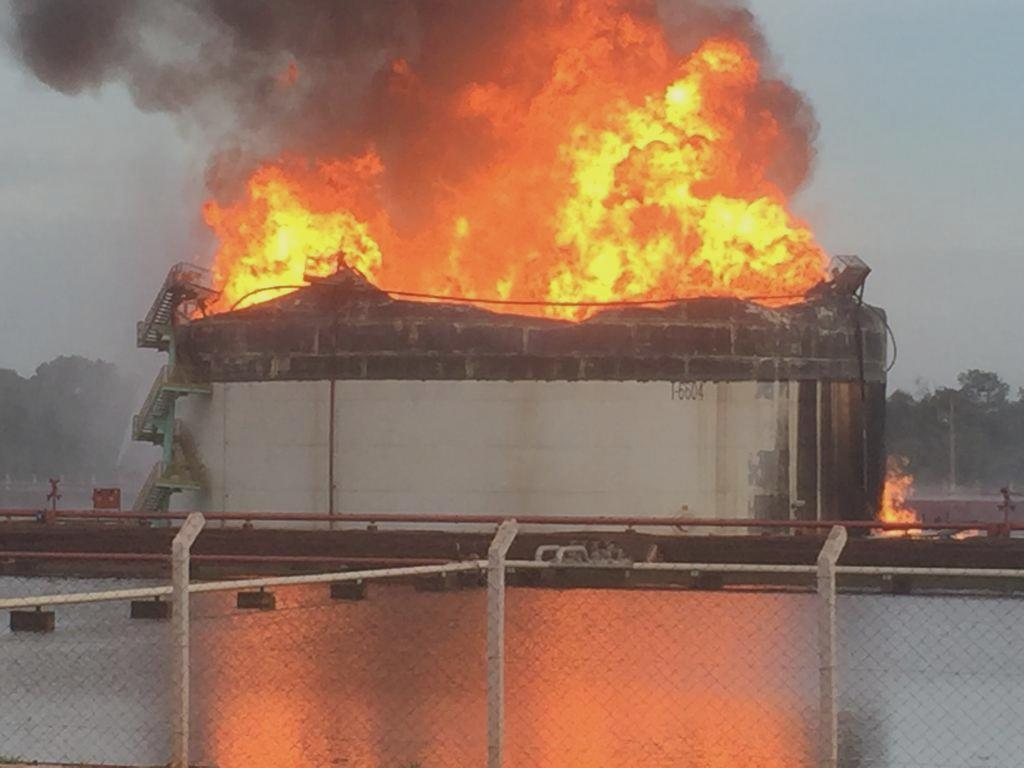Fire: (185, 49, 805, 324), (872, 465, 922, 535)
